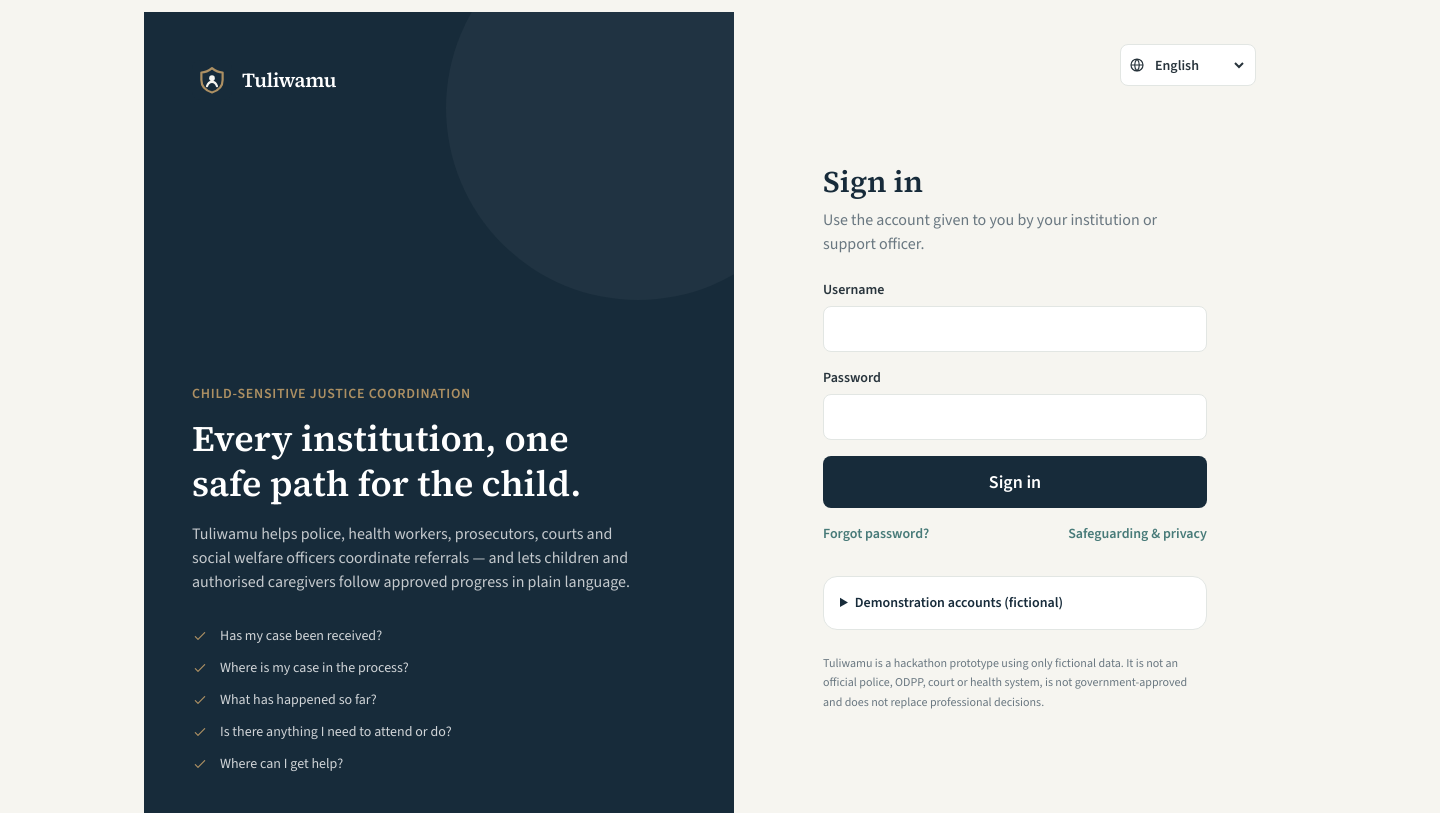
Test: authentication journeys › sends a complainant to a welcome page with no case details before they report
The image size is (1440, 813).
In the field labelled "Username": (1015, 329) 823,306 -> 1207,352, type "complainant.demo"
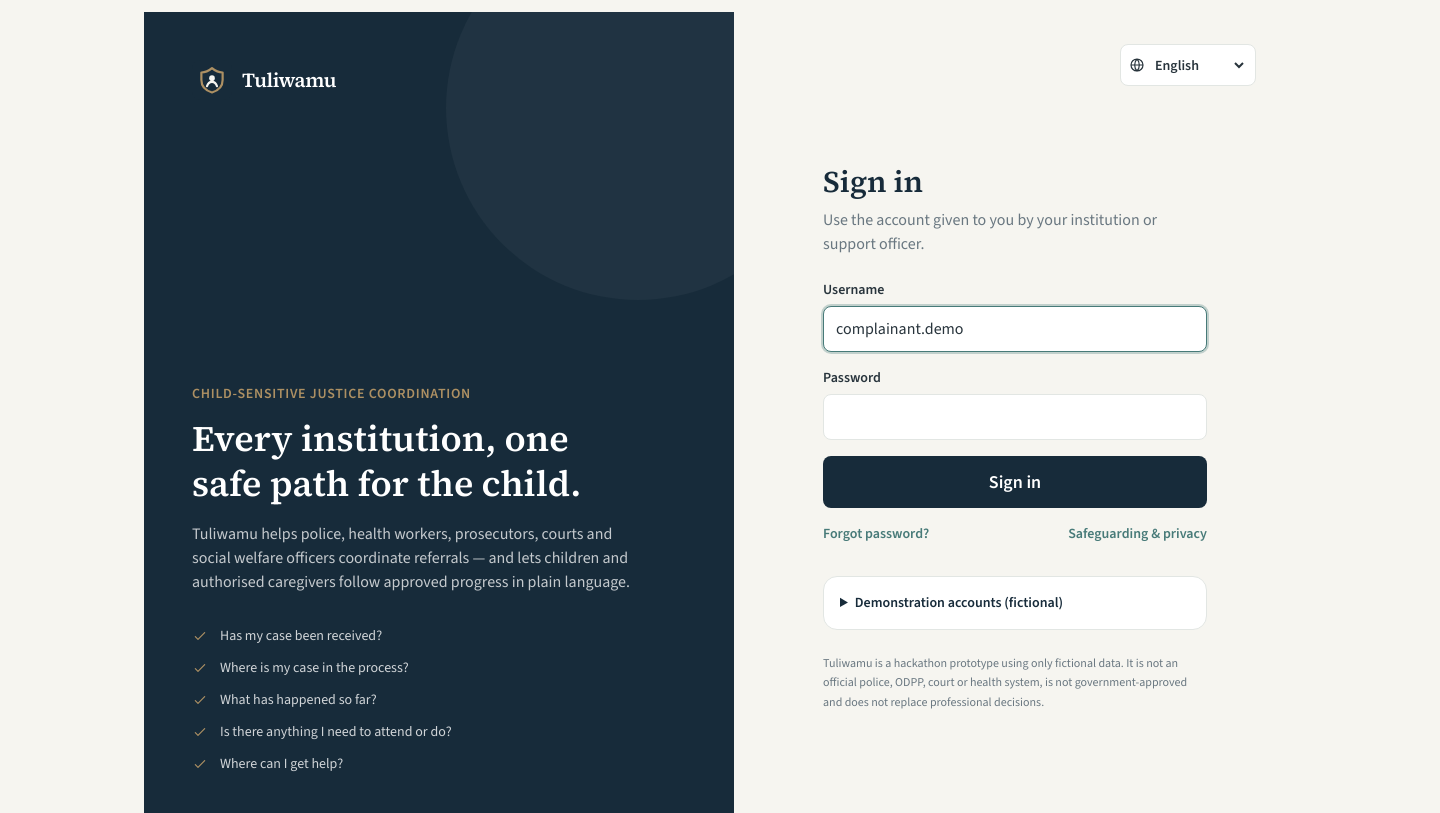
In the password field labelled "Password": (1015, 417) 823,394 -> 1207,440, type "pw"
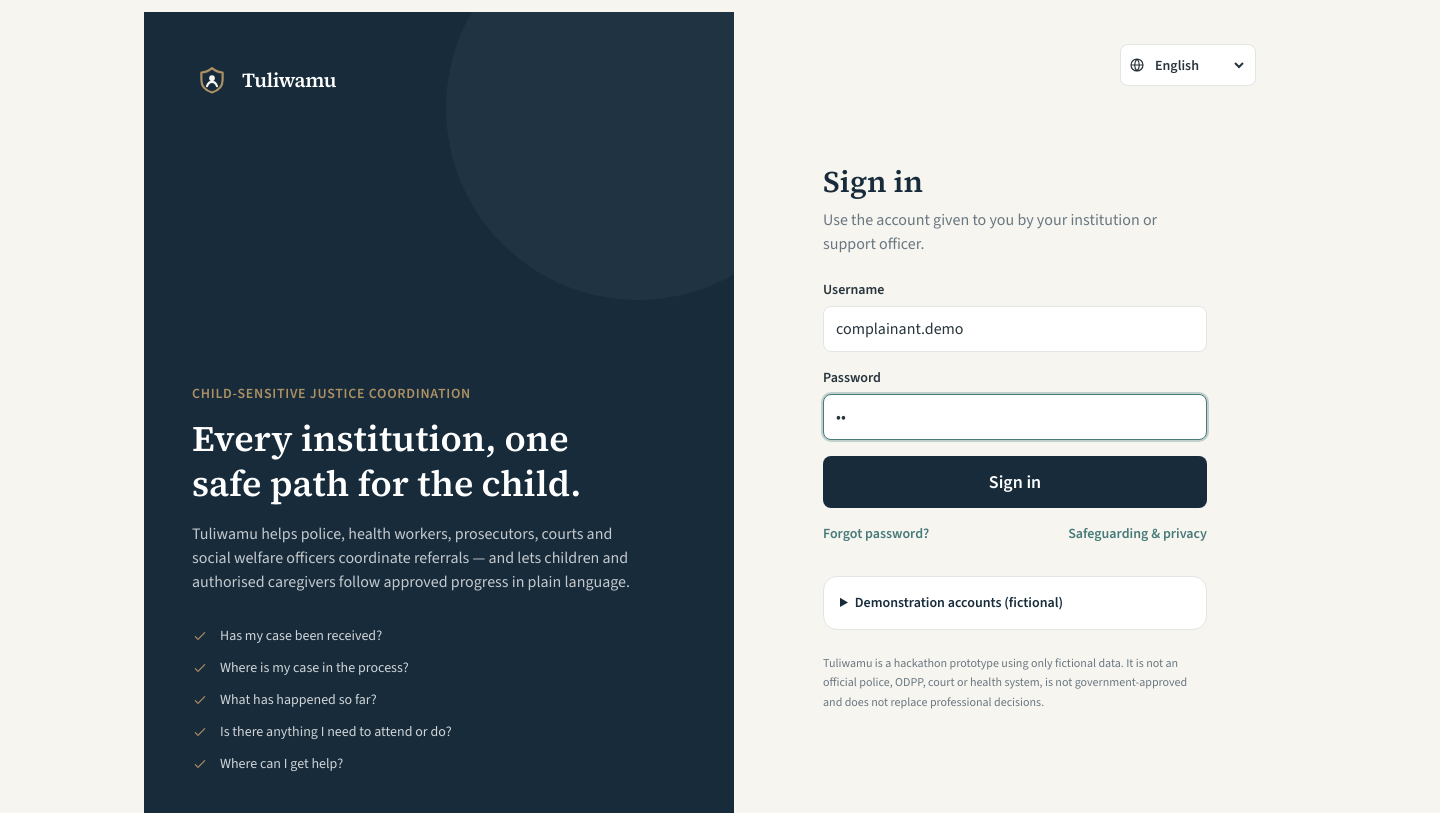
Click the button "Sign in": (1015, 482) 823,456 -> 1207,508
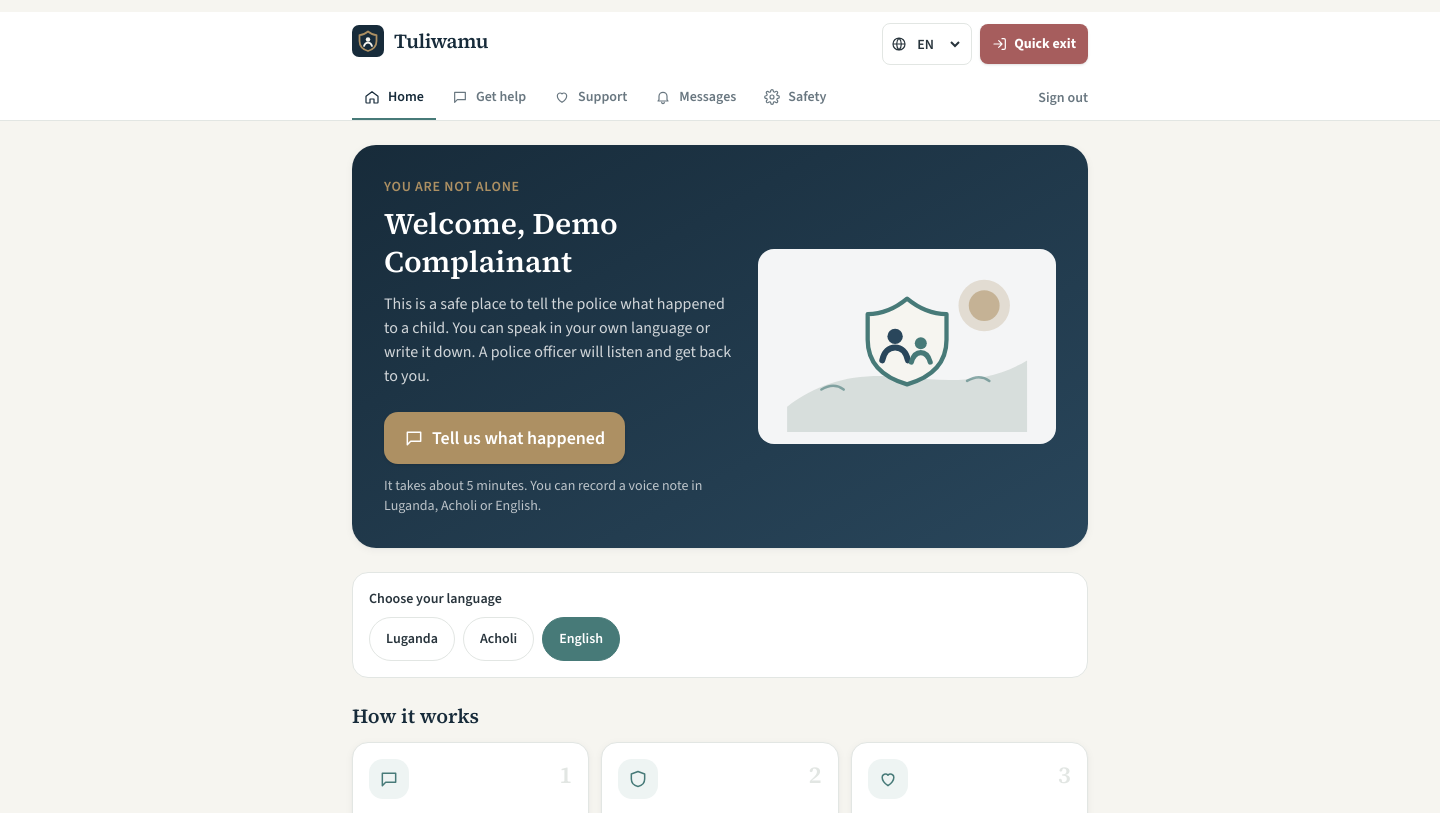
Expected: the heading "Welcome, Demo Complainant" is shown, 384,203 -> 618,282
Expected: the button "Quick exit" is shown, 980,24 -> 1088,64
